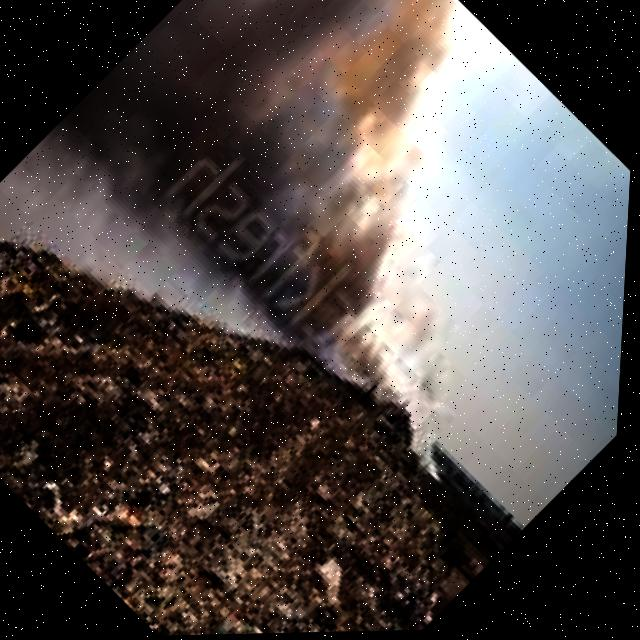Smoke: (0, 0, 623, 538)
